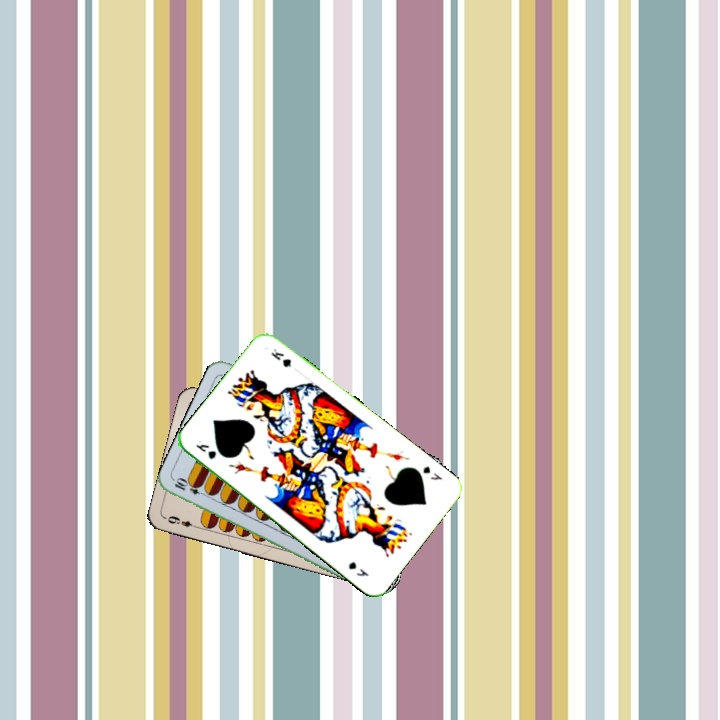E10: (170, 475, 210, 499)
E9: (162, 512, 202, 531)
GK: (192, 436, 219, 462), (419, 462, 445, 483)
